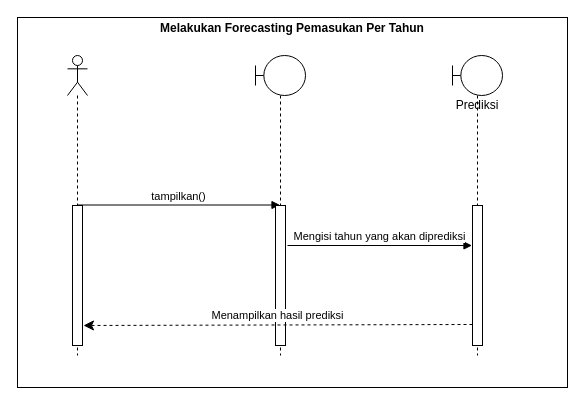
The diagram is 585 pixels wide and 405 high, and some of its shapes have lost their labels. Each missing label, with the centre of its shape:
Halaman Website: the point at 280,205
User: the point at 77,205
